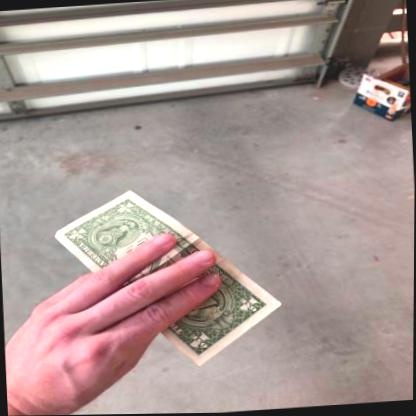one-back: (52, 190, 283, 367)
